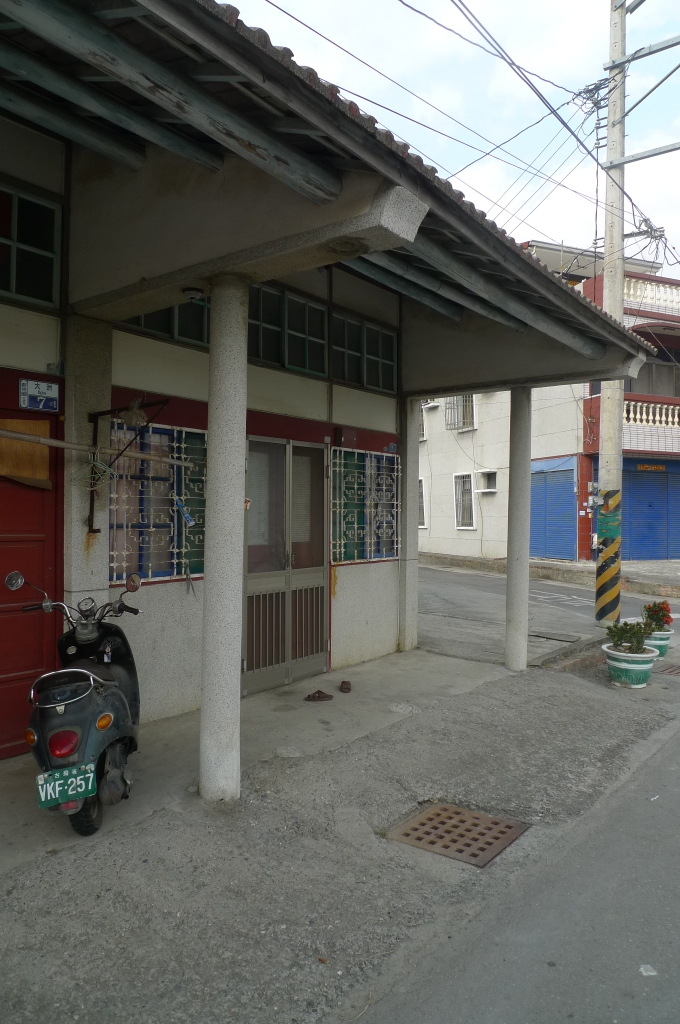pole: (158, 257, 286, 826), (561, 1, 647, 635), (478, 382, 549, 688)
